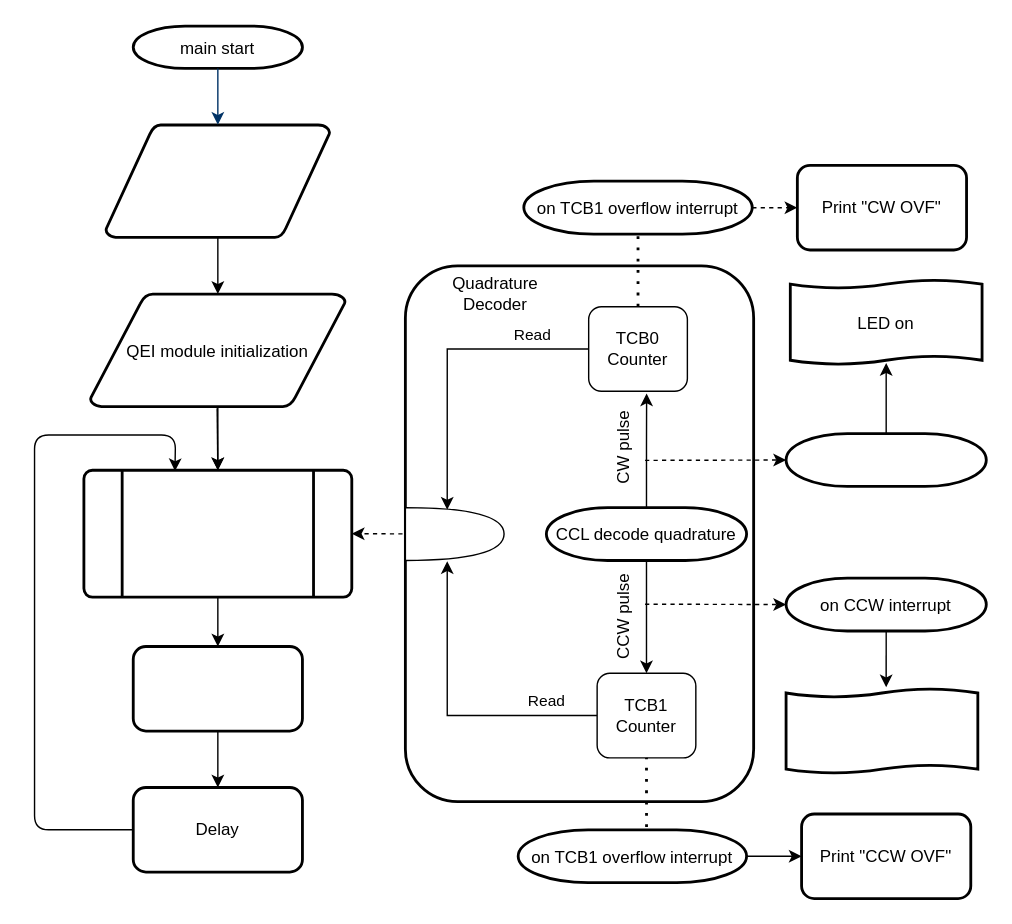
Image size: 1012x924. Some labels were removed from this diagram. Each missing label, with the centre of its shape:
atomic read velocity(counts): (x=217, y=533)
Get velocity: (x=454, y=533)
Initialize peripherals: (x=217, y=180)
LED off: (x=881, y=730)
on CW interrupt: (x=885, y=459)
Print velocity: (x=217, y=688)
